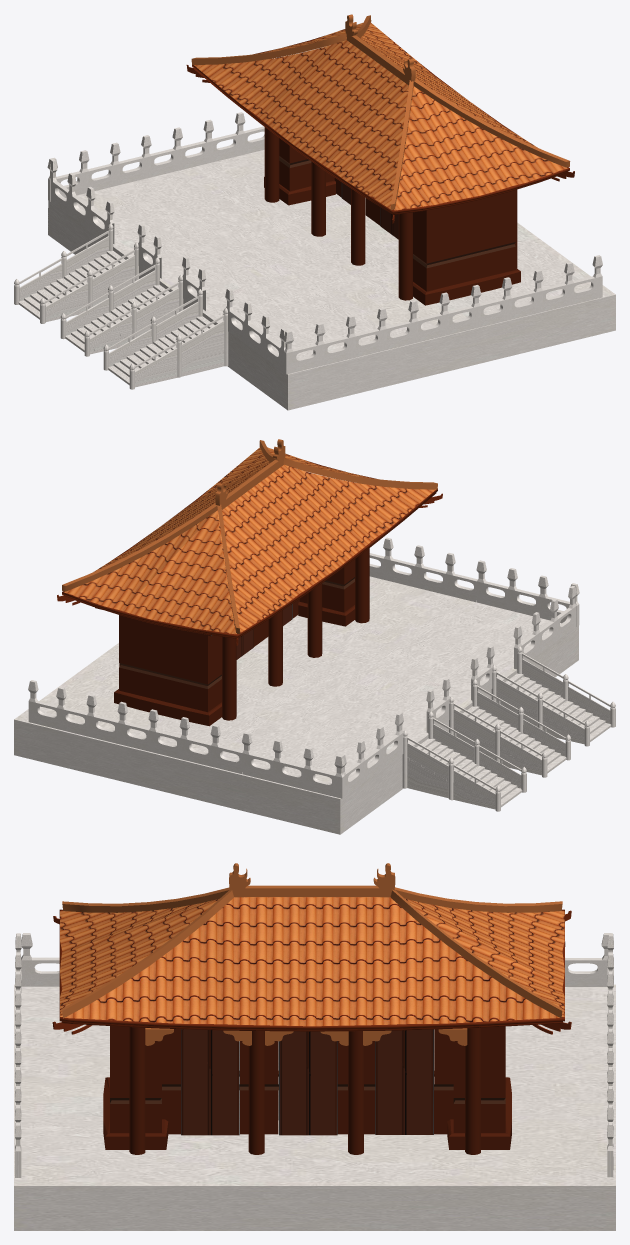
The model's file is chongxin.FBX.
The picture shows the model from 3 angles, top to bottom: view 1: azimuth 30°, elevation 25°; view 2: azimuth 150°, elevation 25°; view 3: azimuth 270°, elevation 25°; orthographic projection. The views are drawn at different scales.
Parts seen in each view (by area): view 1: Plane5674; view 2: Plane5674; view 3: Plane5674.
Part boxes in pixels (box(x1,y1,x2,y2)): Plane5674: box(14, 14, 615, 410); Plane5674: box(14, 439, 615, 834); Plane5674: box(14, 863, 615, 1230).
Size of the model in its own units: 336 by 177 by 328.
10 materials, 6 textured.
